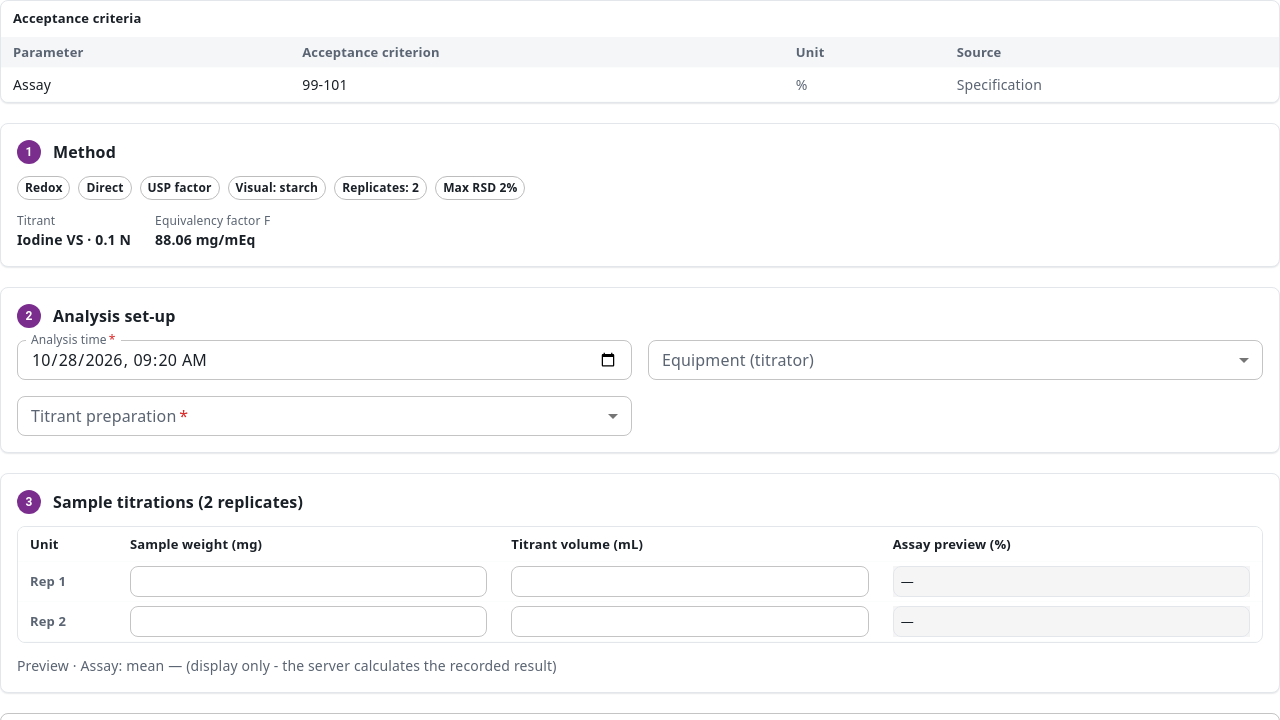
Test case: TitrationPanel › shows the Due warning for the selected preparation
Expected: the text "Method" is shown, top-left (53, 140), bottom-right (116, 164)
Click the dropdown named "Titrant preparation" next to "Titrant preparation": (324,416) top-left (17, 396), bottom-right (632, 436)
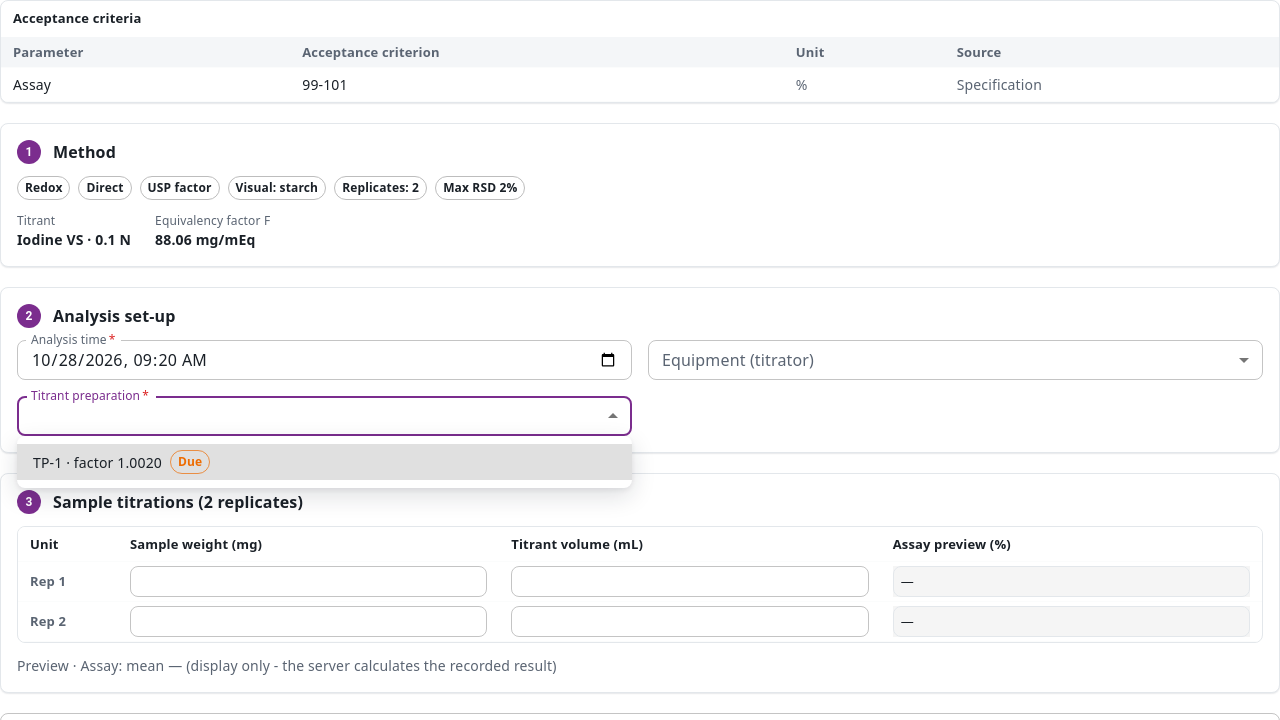
Click the option "TP-1 · factor 1.0020 Due": (94,462) top-left (17, 444), bottom-right (632, 480)
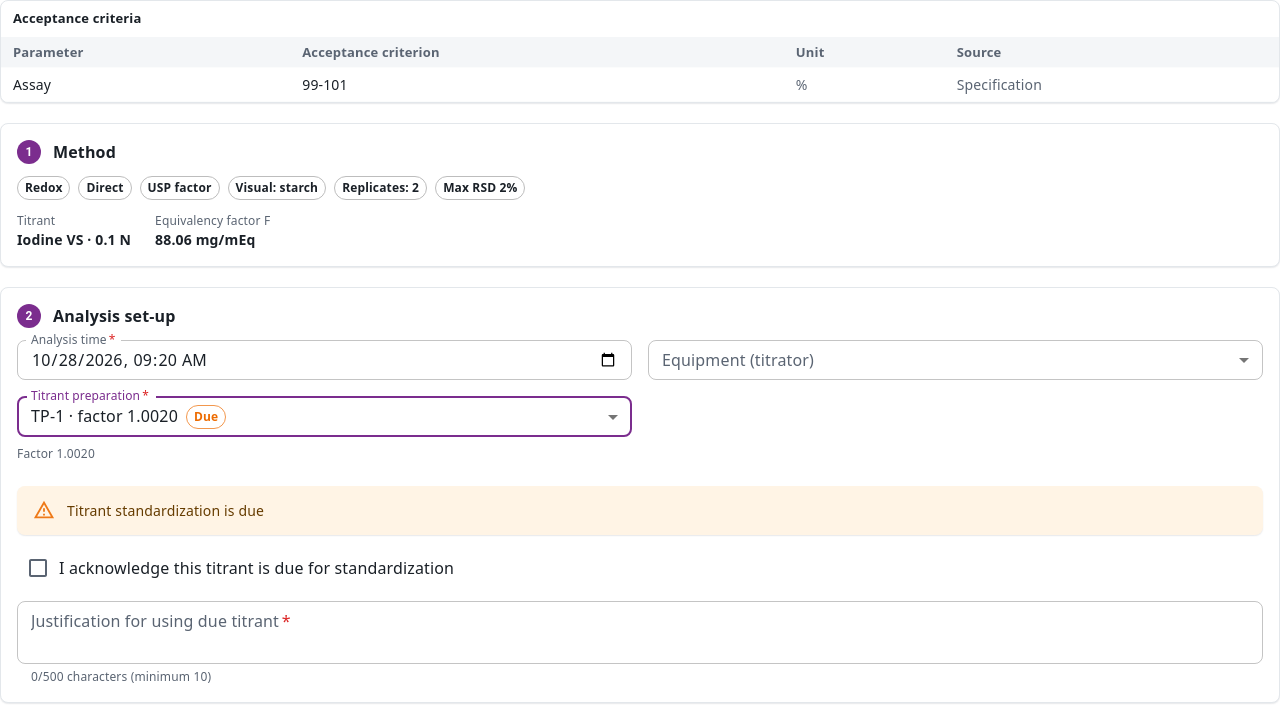
Expected: the text "Titrant standardization is due" is shown, top-left (67, 500), bottom-right (264, 522)
